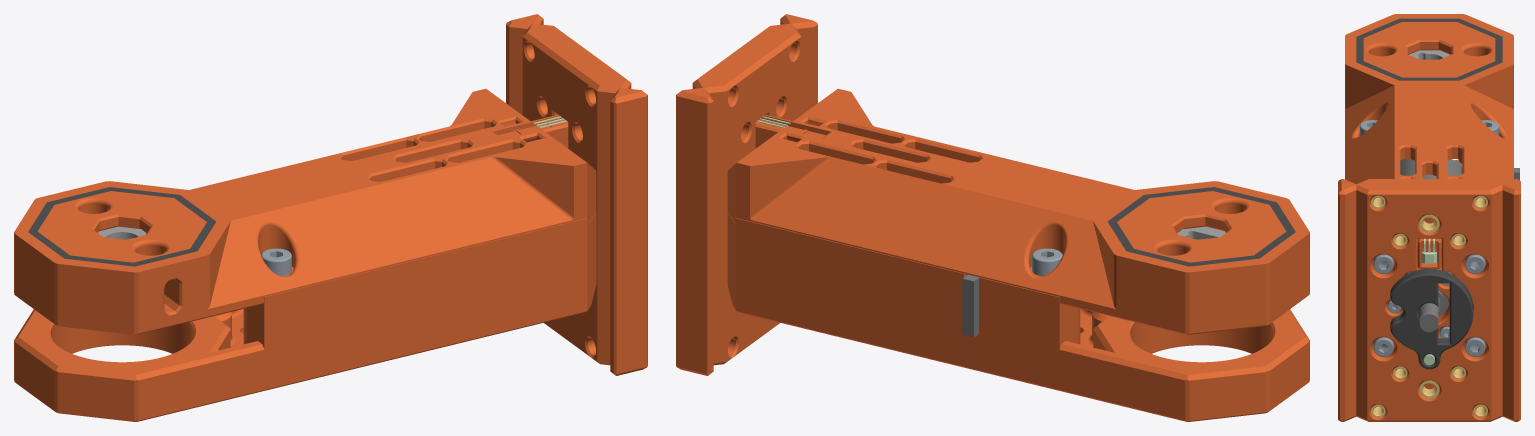
File: lowerarm.dae
3 renders of one model, left to right at view 1: azimuth 30°, elevation 25°; view 2: azimuth 150°, elevation 25°; view 3: azimuth 270°, elevation 25°, orthographic. The views are drawn at different scales.
Parts seen in each view (by area): view 1: Arm B Oben, Arm B Unten, Uni-Platte EOAT, DekoRing, Hex socket head cap screw M4x0.70 x 16; view 2: Arm B Oben, Arm B Unten, Uni-Platte EOAT, DekoRing, 2232.BX4, Hex socket head cap screw M4x0.70 x 16; view 3: Uni-Platte EOAT, Arm B Oben, Magnetplatte, DekoRing, Hex socket head cap screw M3x0.50 x 12 (×4), H99999998-A-Alle Getriebe, 2232.BX4, RX-M4x8.1 (×2), MitnehmerMetall, Hall Sensor 90°.
Boxes of the visible parts, left/top/right/bottom form: Arm B Oben: left=14, top=88, right=596, bottom=334; Arm B Unten: left=14, top=212, right=596, bottom=421; Uni-Platte EOAT: left=506, top=14, right=647, bottom=375; DekoRing: left=28, top=187, right=216, bottom=266; Hex socket head cap screw M4x0.70 x 16: left=261, top=248, right=291, bottom=276; Arm B Oben: left=727, top=88, right=1309, bottom=334; Arm B Unten: left=727, top=212, right=1309, bottom=421; Uni-Platte EOAT: left=676, top=14, right=817, bottom=375; DekoRing: left=1107, top=187, right=1295, bottom=266; 2232.BX4: left=962, top=274, right=979, bottom=336; Hex socket head cap screw M4x0.70 x 16: left=1032, top=248, right=1062, bottom=276; Uni-Platte EOAT: left=1338, top=179, right=1520, bottom=421; Arm B Oben: left=1345, top=14, right=1513, bottom=268; Magnetplatte: left=1390, top=268, right=1473, bottom=369; DekoRing: left=1356, top=18, right=1502, bottom=80; Hex socket head cap screw M3x0.50 x 12 (×4): left=1373, top=254, right=1485, bottom=356; H99999998-A-Alle Getriebe: left=1417, top=258, right=1449, bottom=332; 2232.BX4: left=1400, top=159, right=1519, bottom=179; RX-M4x8.1 (×2): left=1419, top=214, right=1439, bottom=398; MitnehmerMetall: left=1409, top=50, right=1449, bottom=59; Hall Sensor 90°: left=1422, top=238, right=1436, bottom=263.
Bounding box in the file's own units: 0.1572 × 0.05 × 0.07.
